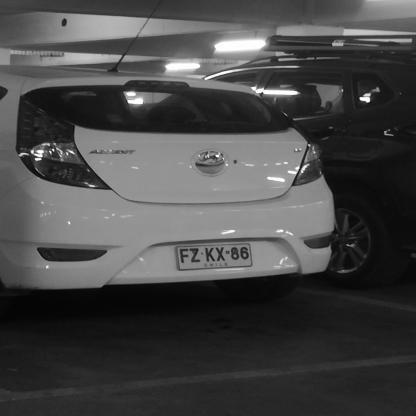Patente: (176, 243, 252, 270)
